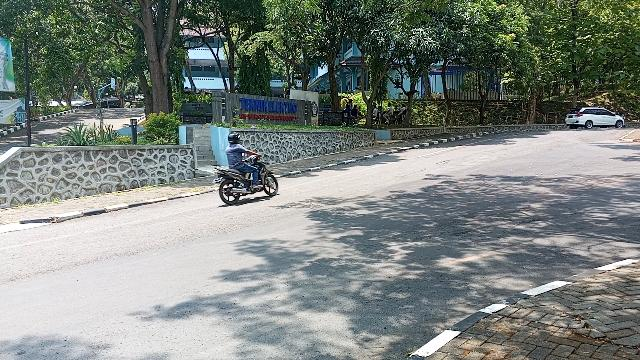helm: (230, 134, 243, 147)
motor: (213, 154, 279, 207)
